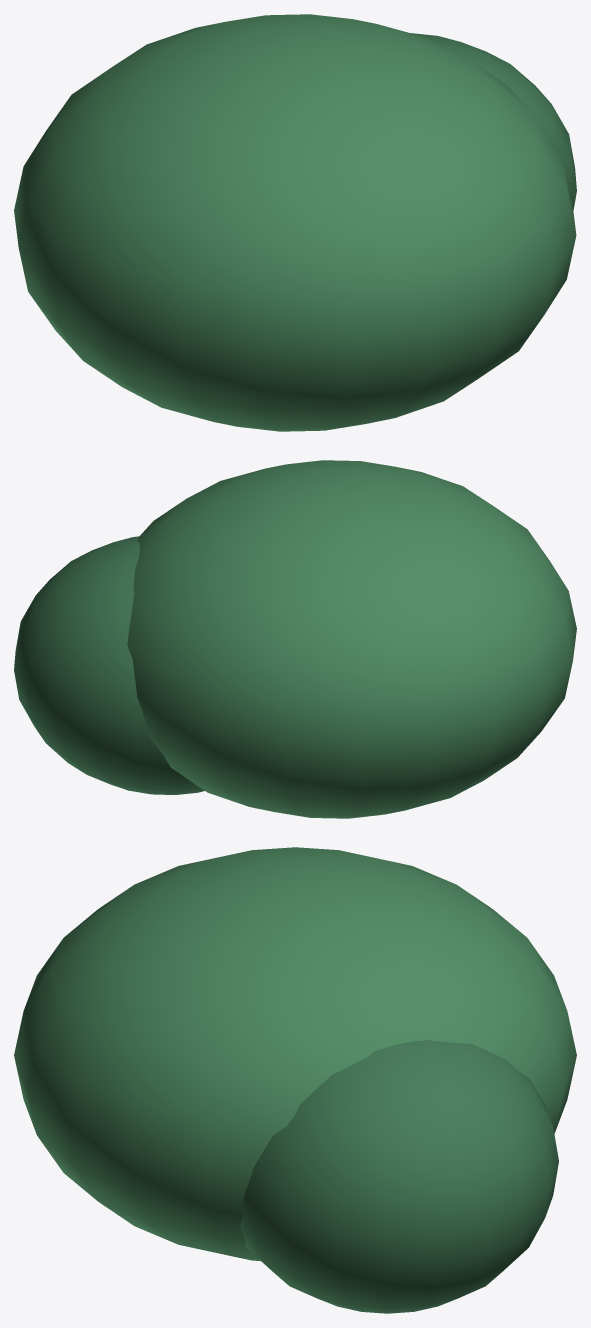
The model's file is shrub.broad-old.glb.
The picture shows the model from 3 angles, top to bottom: view 1: azimuth 30°, elevation 25°; view 2: azimuth 150°, elevation 25°; view 3: azimuth 270°, elevation 25°; orthographic projection. The views are drawn at different scales.
Visible parts, largest first — view 1: bush; view 2: bush; view 3: bush.
Part boxes in pixels (x1,y1,x2,y2): bush: [14, 14, 576, 431]; bush: [14, 460, 576, 818]; bush: [14, 847, 576, 1313].
Bounding box in the file's own units: 1.24 × 0.74 × 1.1.
